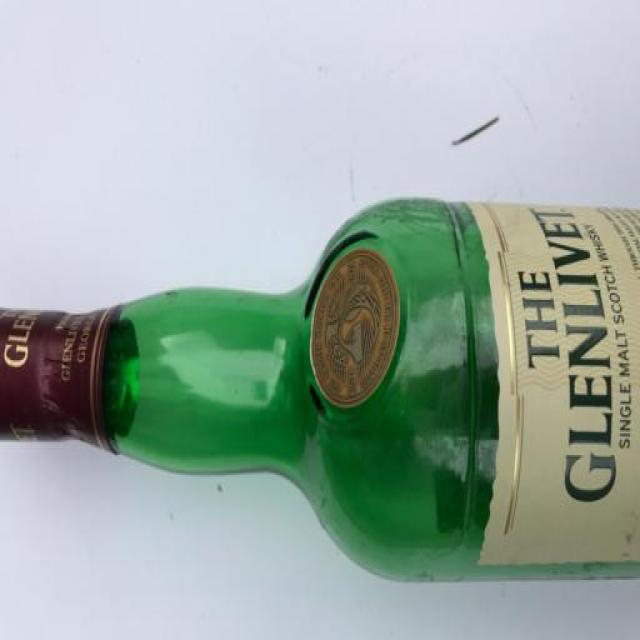Waste: (0, 200, 640, 579)
